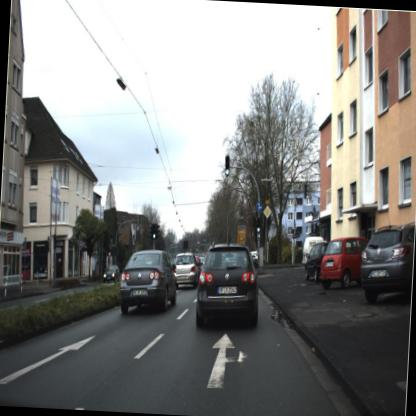mandatory: (252, 198, 263, 212)
other: (262, 204, 274, 220)
